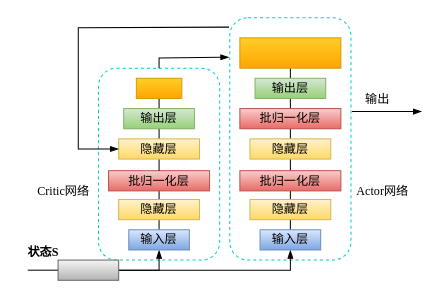
This 447x298 diagram has some shape labels left out. The shapes that lost their labels are listed below. From the top down, each one's centre as x and y in pixels, then its label:
At point 290,52: "数据处理".
At point 158,87: "Q值".
At point 88,269: "白噪声".
